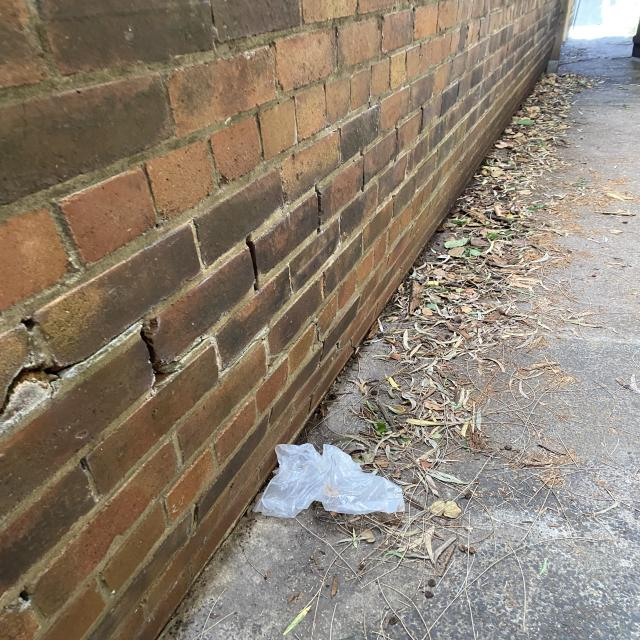bag: (253, 443, 405, 518)
